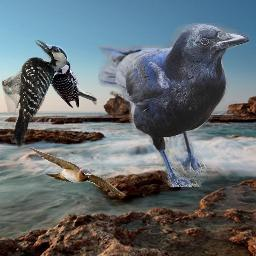Crow: (98, 23, 249, 187)
Swallow: (27, 145, 127, 196)
Woodpecker: (2, 40, 69, 148), (48, 56, 97, 108)
